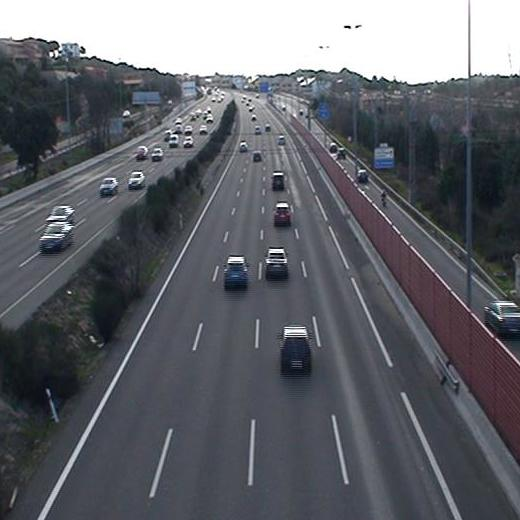car: (280, 327, 312, 372), (223, 255, 247, 288), (266, 248, 289, 279), (272, 202, 291, 227), (272, 172, 286, 188), (252, 150, 263, 163), (238, 140, 249, 153)
